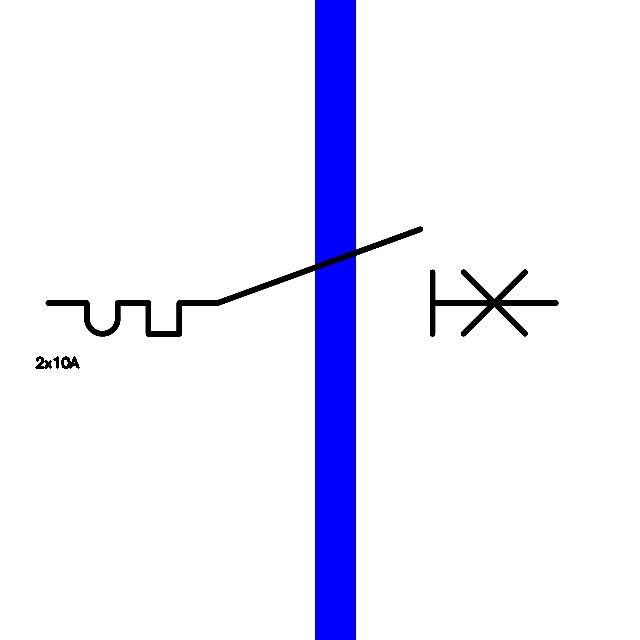interruptor_termomagnetico: (35, 216, 569, 347)
